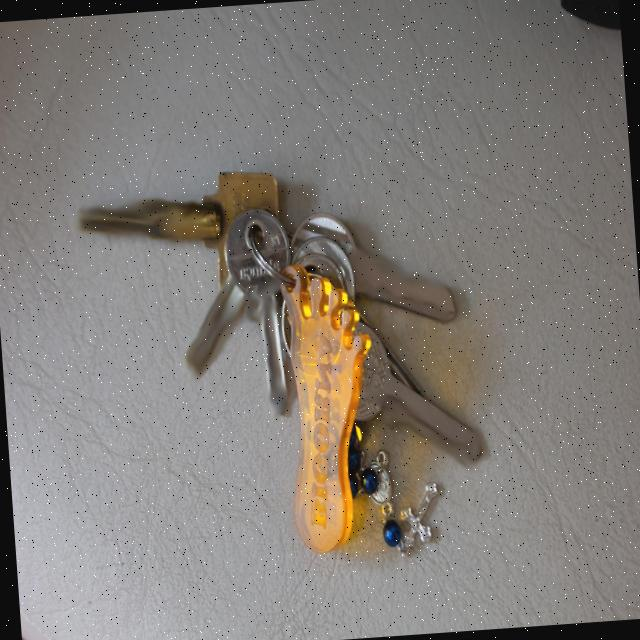Frontdoor keys: (334, 320, 488, 477), (300, 193, 477, 321), (226, 202, 298, 442)
